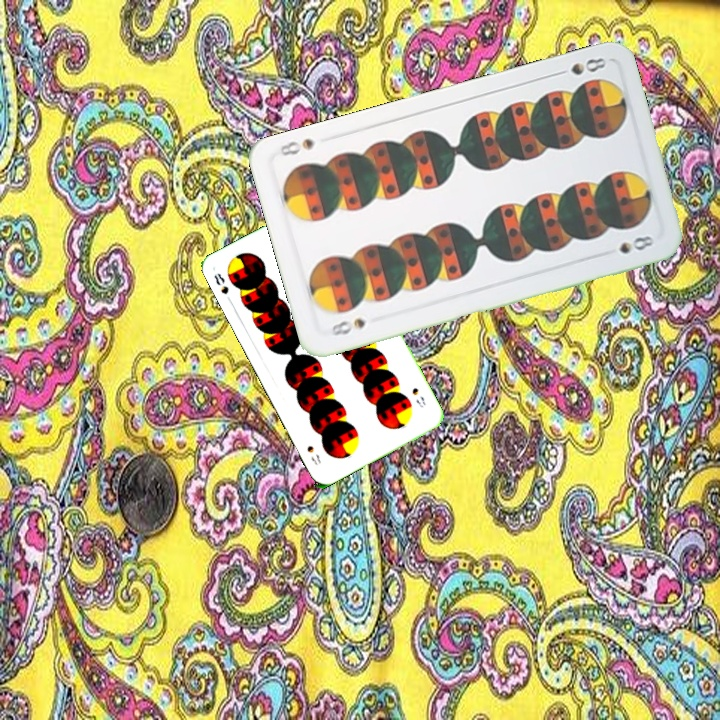S8: (551, 53, 609, 79), (327, 314, 368, 339), (210, 269, 232, 297), (408, 383, 428, 411)
